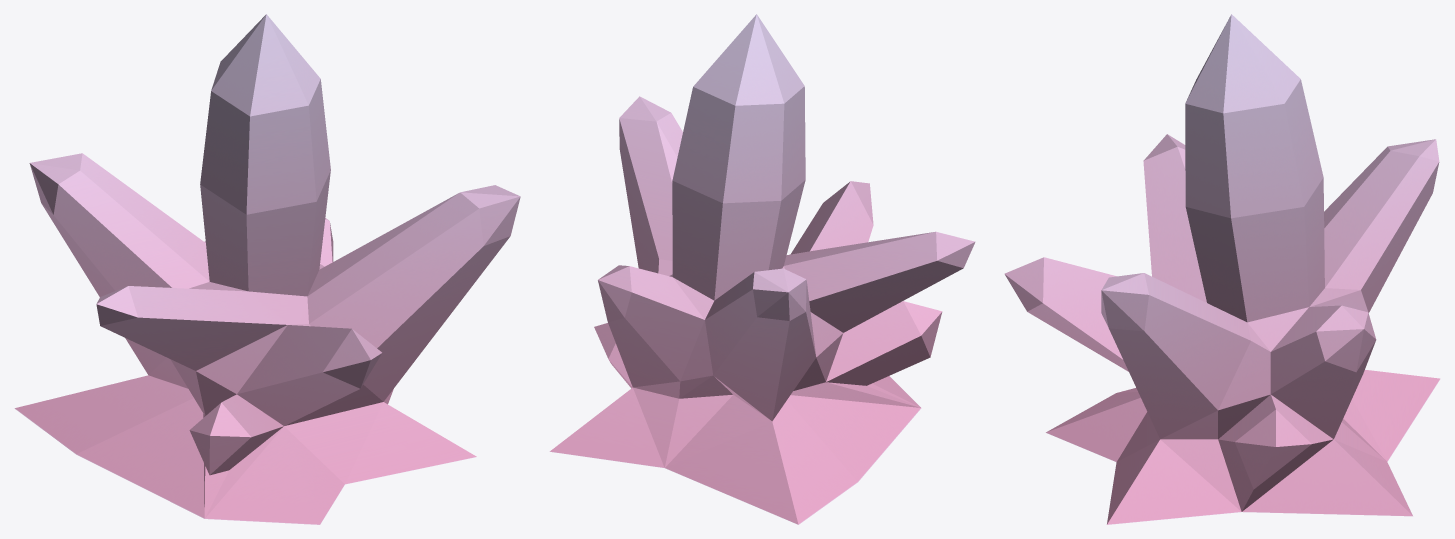
Rendered from MOD_CrystalCluster1.fbx.
The picture shows the model from 3 angles, left to right: view 1: azimuth 30°, elevation 25°; view 2: azimuth 150°, elevation 25°; view 3: azimuth 270°, elevation 25°; orthographic projection. The views are drawn at different scales.
Visible parts, largest first — view 1: MOD_KristalFormatie2; view 2: MOD_KristalFormatie2; view 3: MOD_KristalFormatie2.
Part boxes in pixels (x1,y1,x2,y2): MOD_KristalFormatie2: (14, 14, 520, 524); MOD_KristalFormatie2: (549, 14, 975, 524); MOD_KristalFormatie2: (1004, 14, 1440, 524).
Bounding box in the file's own units: 5.25 × 5.56 × 5.03.
1 material, 1 textured.
